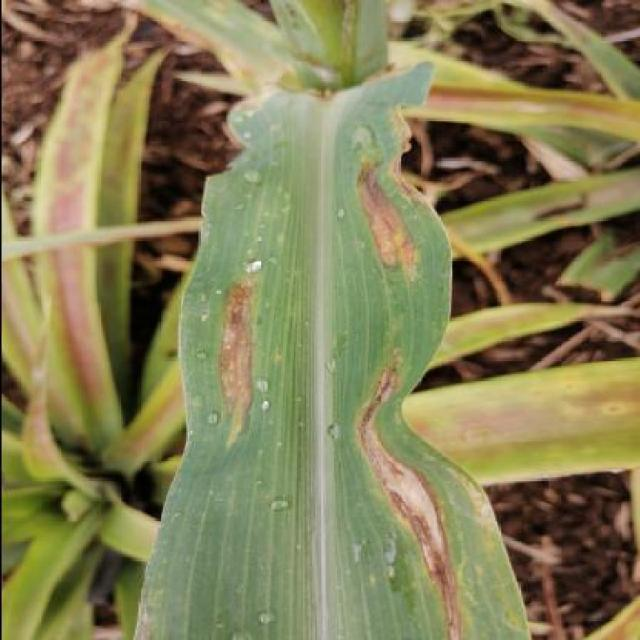Corn_Leaf_Blight: (146, 67, 507, 640)
